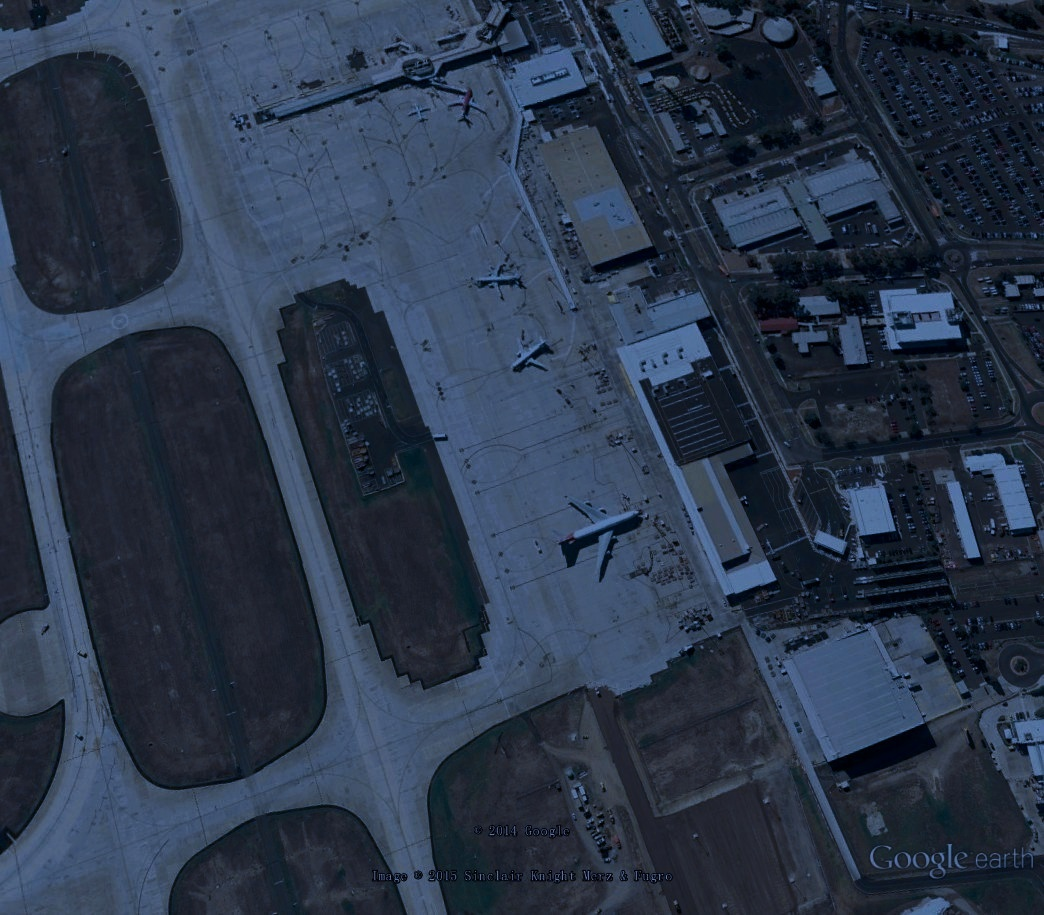aircraft: (548, 494, 643, 588), (473, 259, 527, 301), (444, 85, 494, 126), (509, 334, 555, 376), (406, 103, 432, 125)
